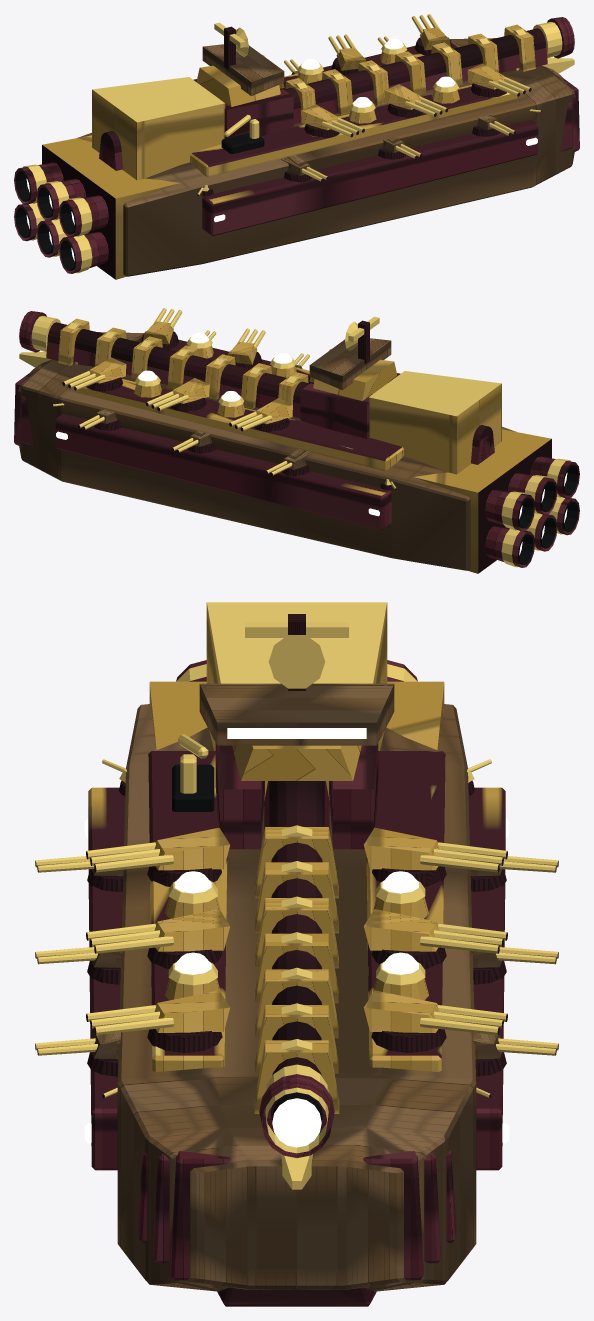
File: battleship.glb
3 views of the same model, one above another, from view 1: azimuth 30°, elevation 25°; view 2: azimuth 150°, elevation 25°; view 3: azimuth 270°, elevation 25° (orthographic). The views are drawn at different scales.
Parts seen in each view (by area): view 1: hull_body, weapon_mounts, engine_block, sensor_tower, shield_domes; view 2: hull_body, weapon_mounts, engine_block, sensor_tower, shield_domes; view 3: hull_body, weapon_mounts, sensor_tower, shield_domes, engine_block.
Part boxes in pixels (box(x1,y1,x2,y2)): hull_body: box(77, 38, 579, 276); weapon_mounts: box(99, 14, 574, 196); engine_block: box(14, 135, 179, 279); sensor_tower: box(193, 22, 293, 138); shield_domes: box(297, 38, 459, 123); hull_body: box(14, 332, 516, 570); weapon_mounts: box(19, 308, 494, 490); engine_block: box(414, 429, 579, 573); sensor_tower: box(300, 316, 400, 438); shield_domes: box(134, 332, 296, 417); hull_body: box(84, 602, 509, 1306); weapon_mounts: box(35, 759, 558, 1157); sensor_tower: box(199, 614, 394, 849); shield_domes: box(165, 871, 428, 1000); engine_block: box(149, 660, 444, 749).
Bounding box in the file's own units: 60 × 20.97 × 25.74.
1 material, 1 textured.
